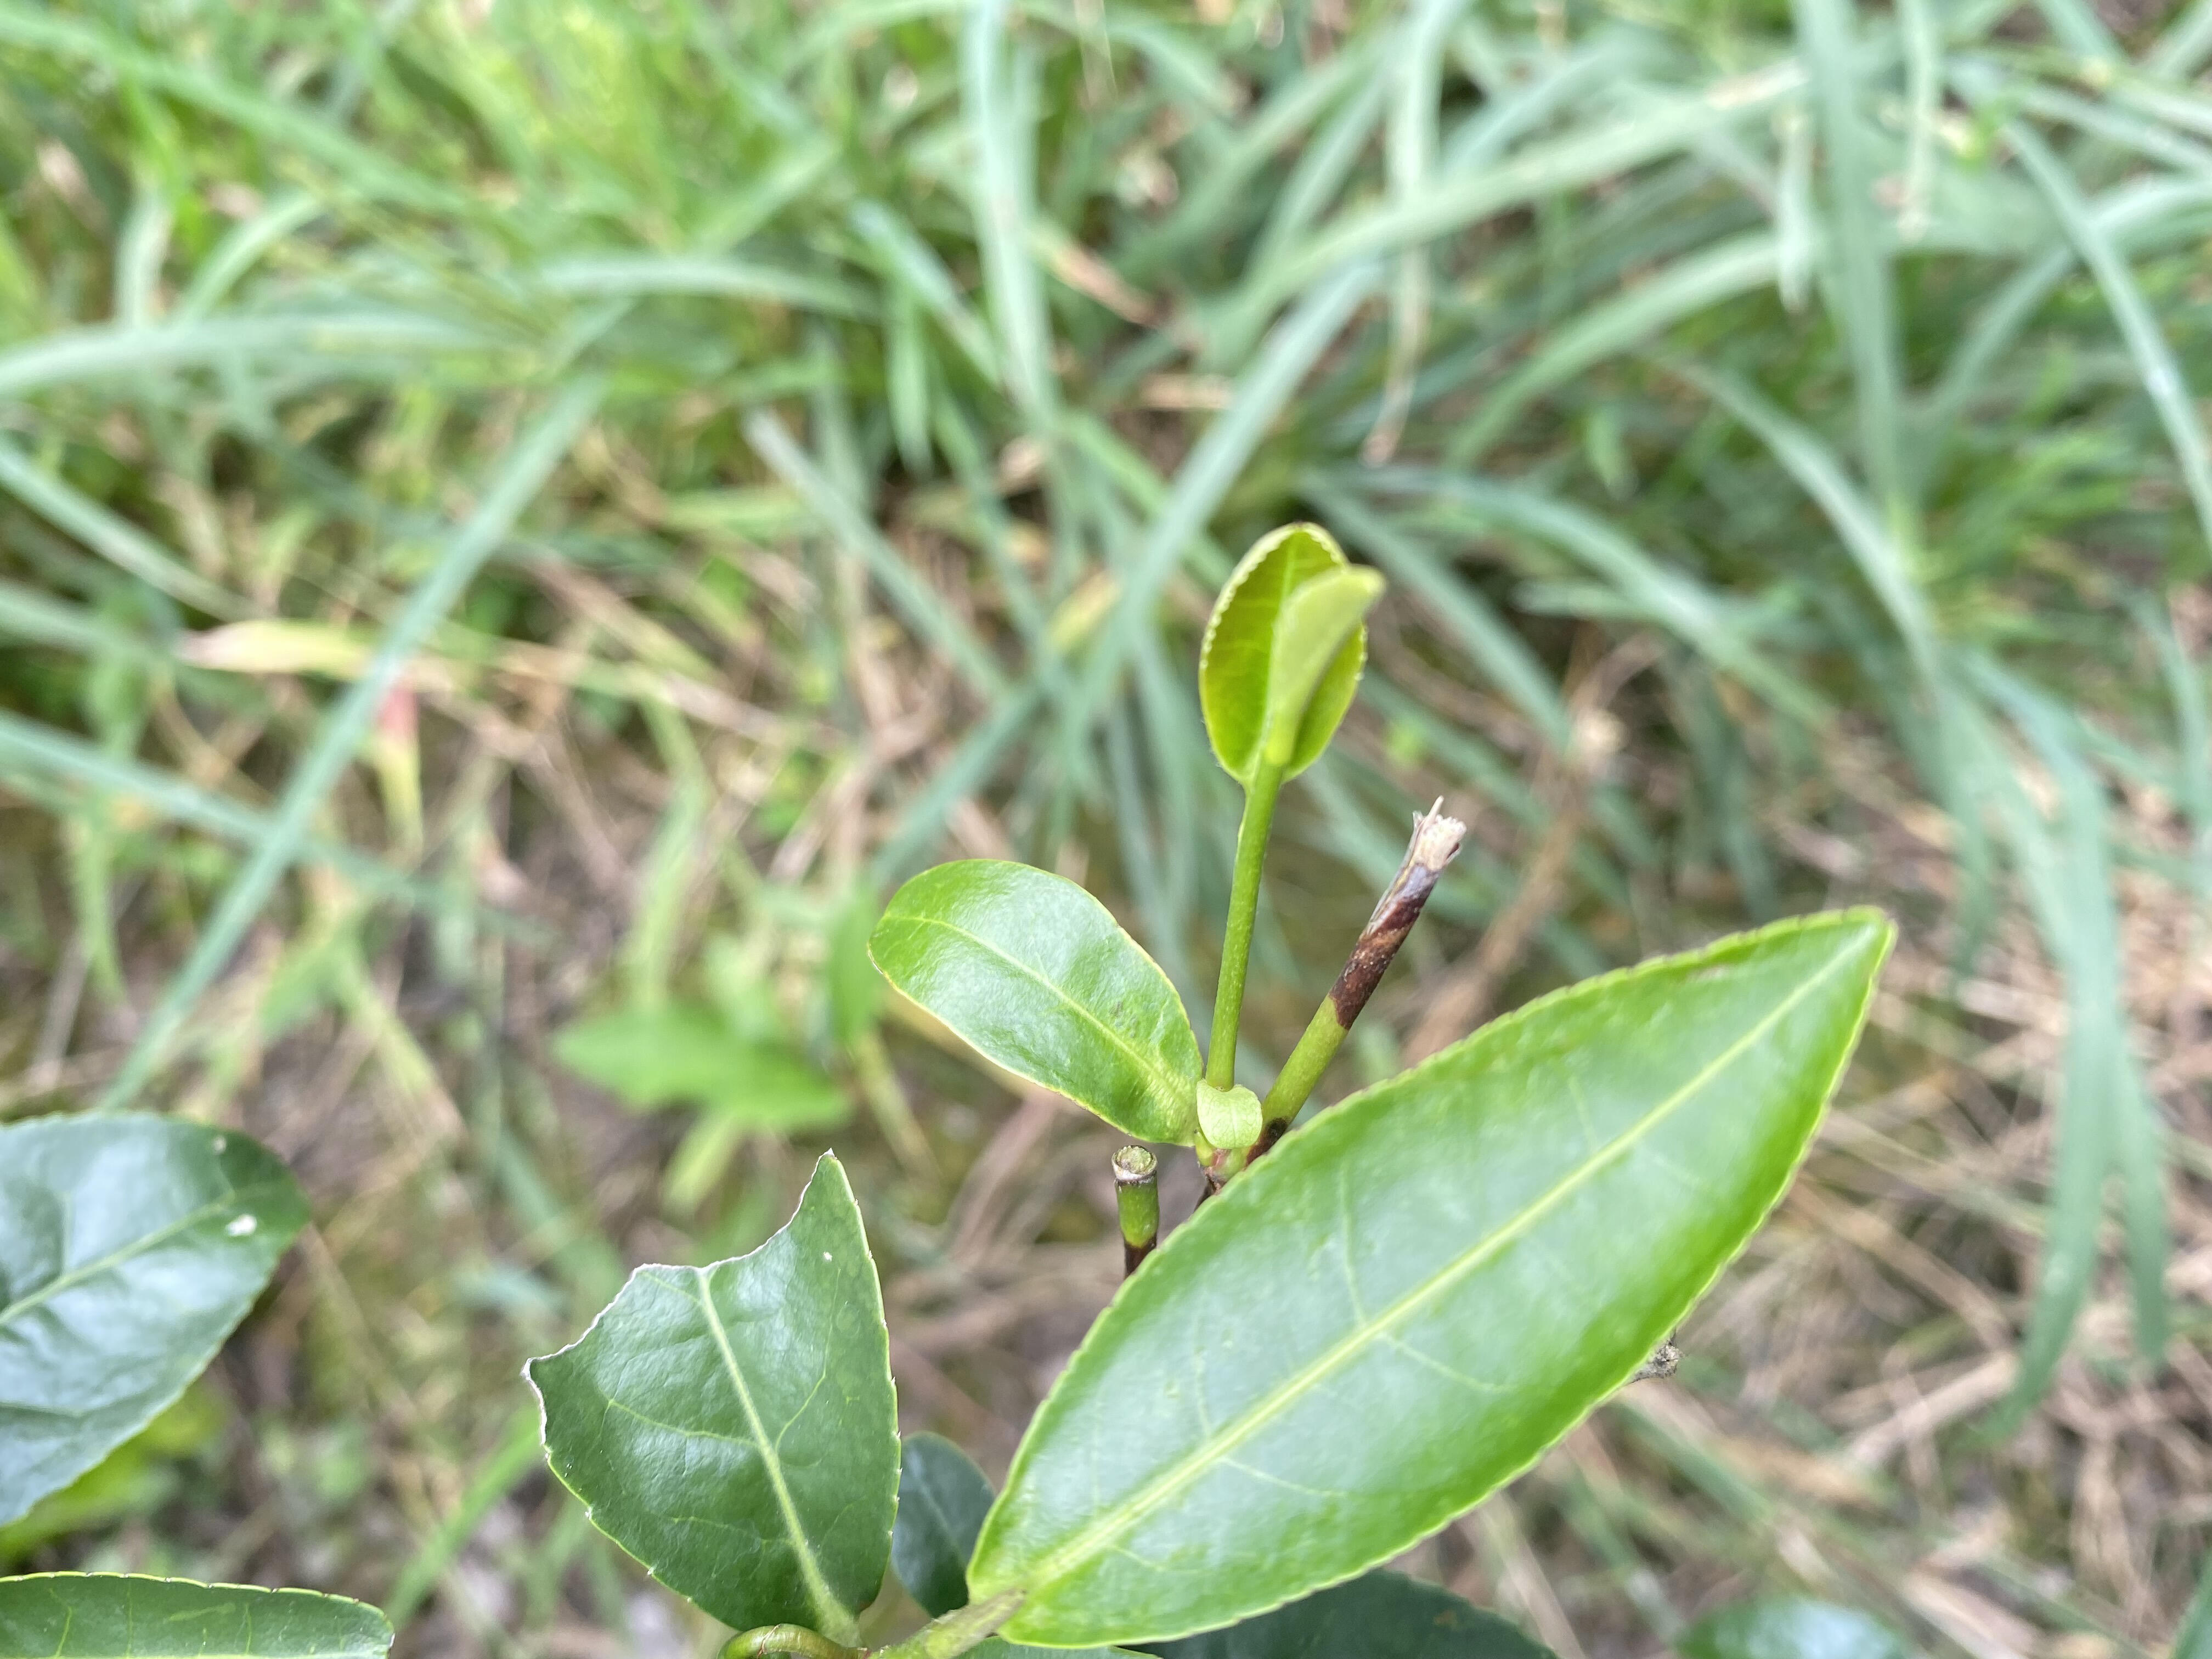chihuo_high: (517, 1150, 906, 1633)
healthy: (965, 904, 1895, 1650), (864, 856, 1205, 1141)
tanju_low: (1195, 521, 1367, 789)
